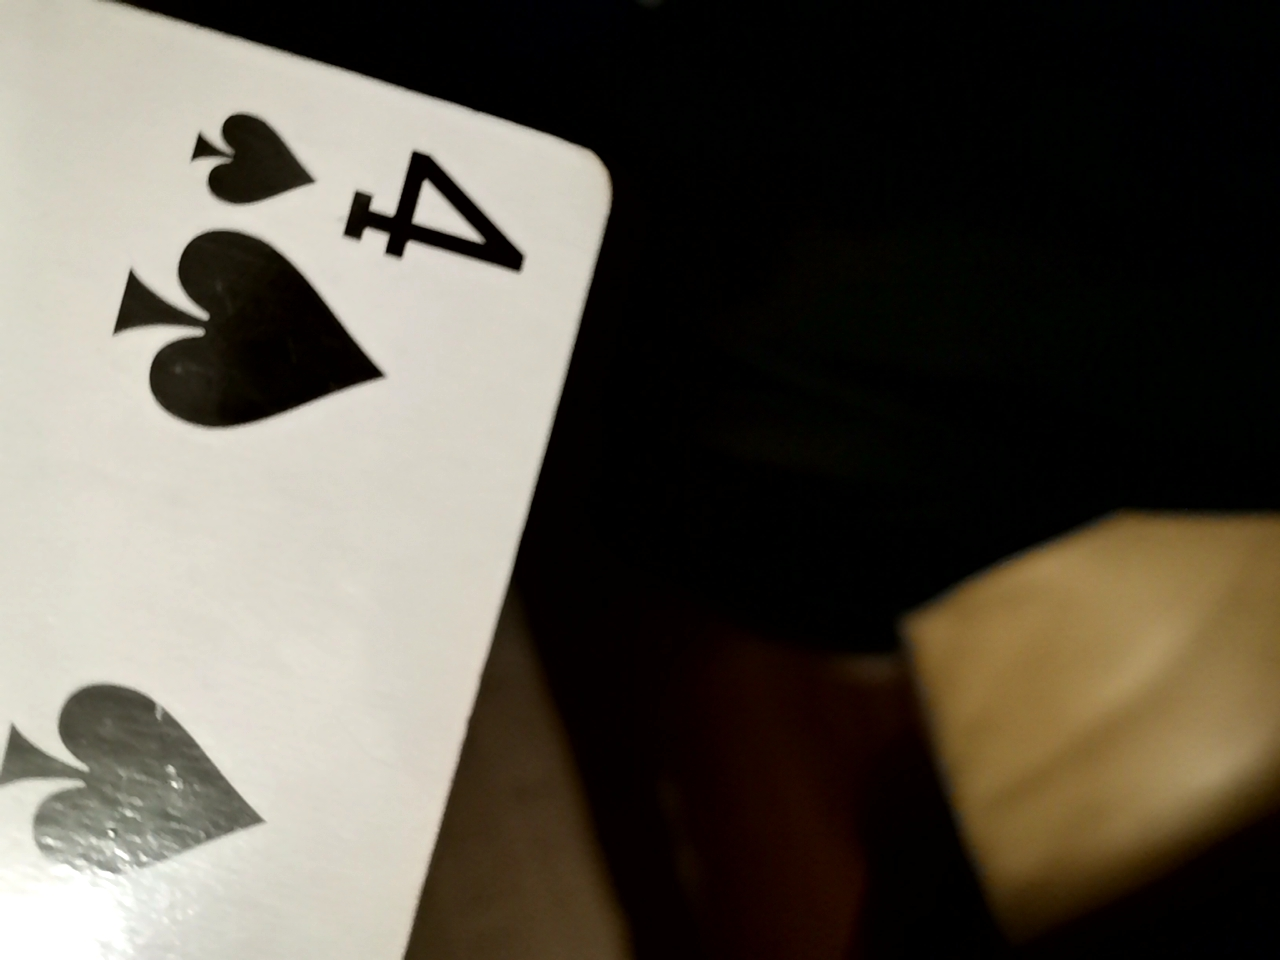ht 4: (10, 0, 626, 936)
